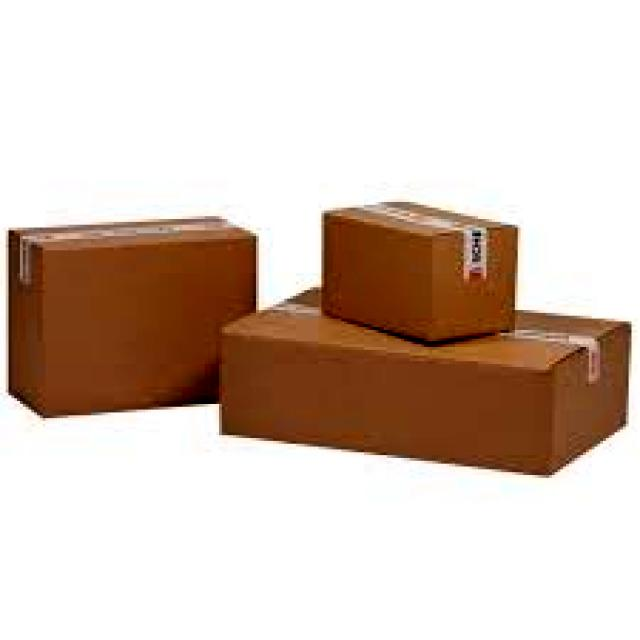Cardboard: (218, 277, 632, 478), (8, 214, 262, 418), (320, 197, 523, 347)
